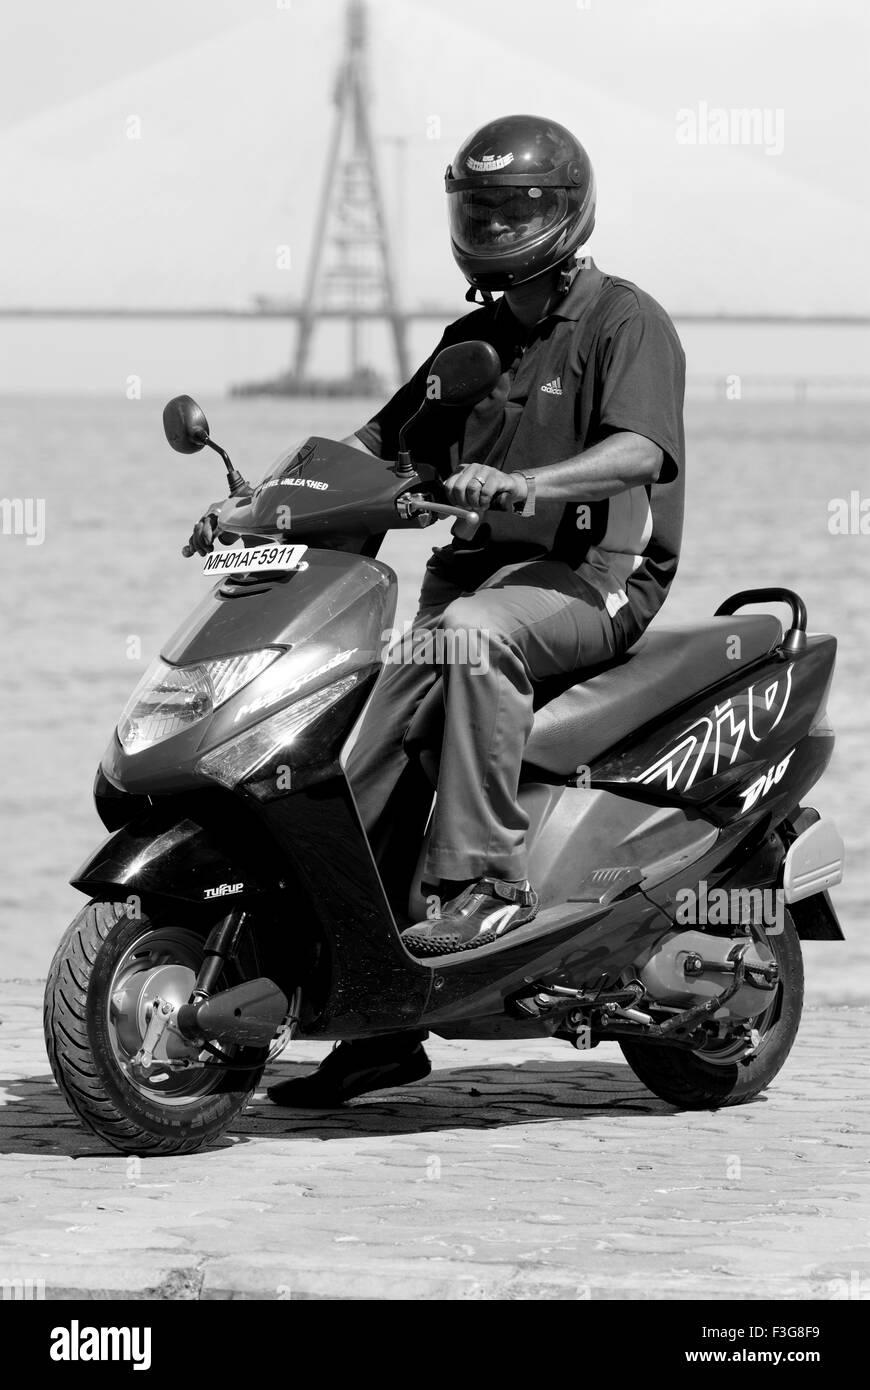Helmet: (444, 114, 597, 369)
